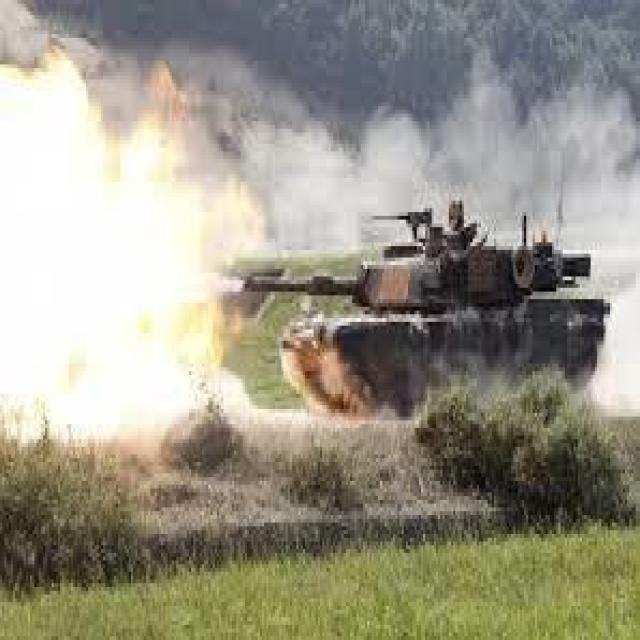MIL_MBT: (204, 184, 569, 418)
